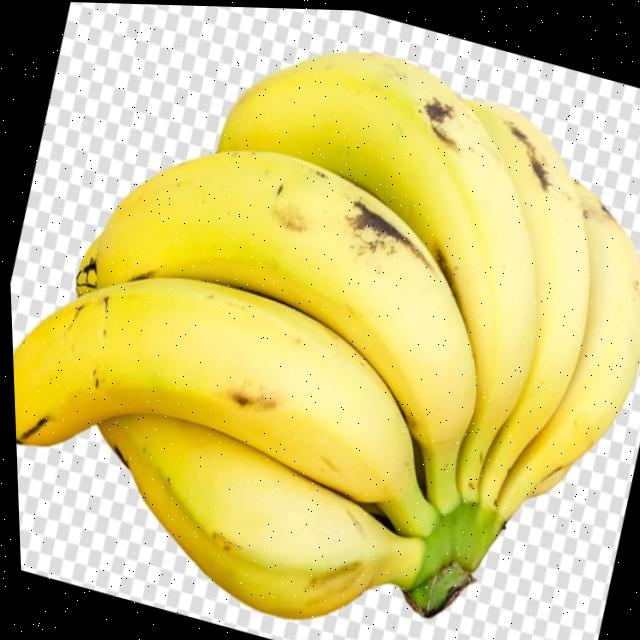Banana: (218, 50, 534, 502), (93, 149, 473, 510), (10, 278, 433, 534), (97, 413, 421, 616), (492, 180, 640, 516), (468, 99, 587, 505)
